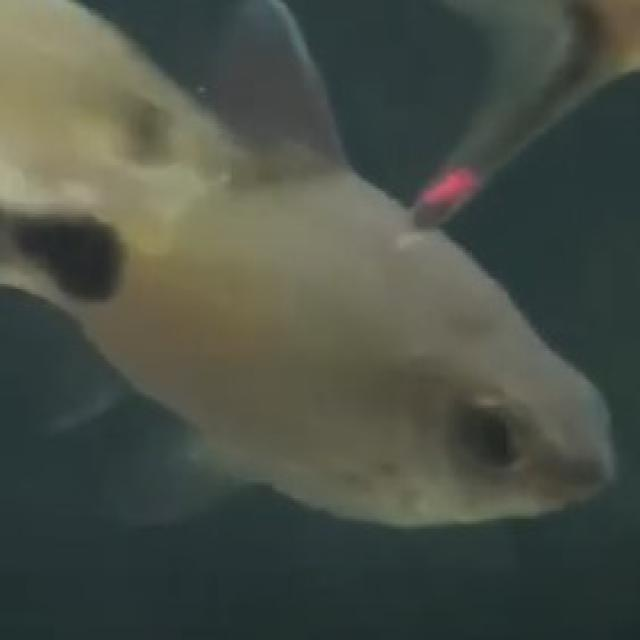Black-Spotted-Barb: (30, 11, 640, 552)
